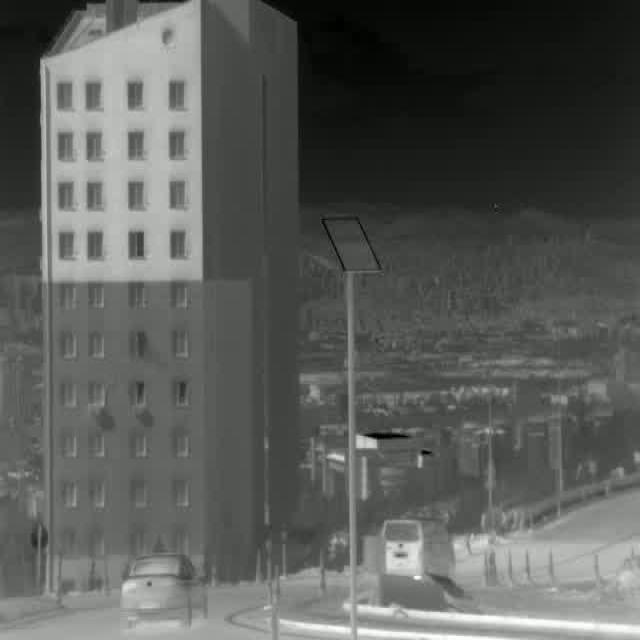Car: (118, 555, 212, 628), (378, 518, 457, 585)
